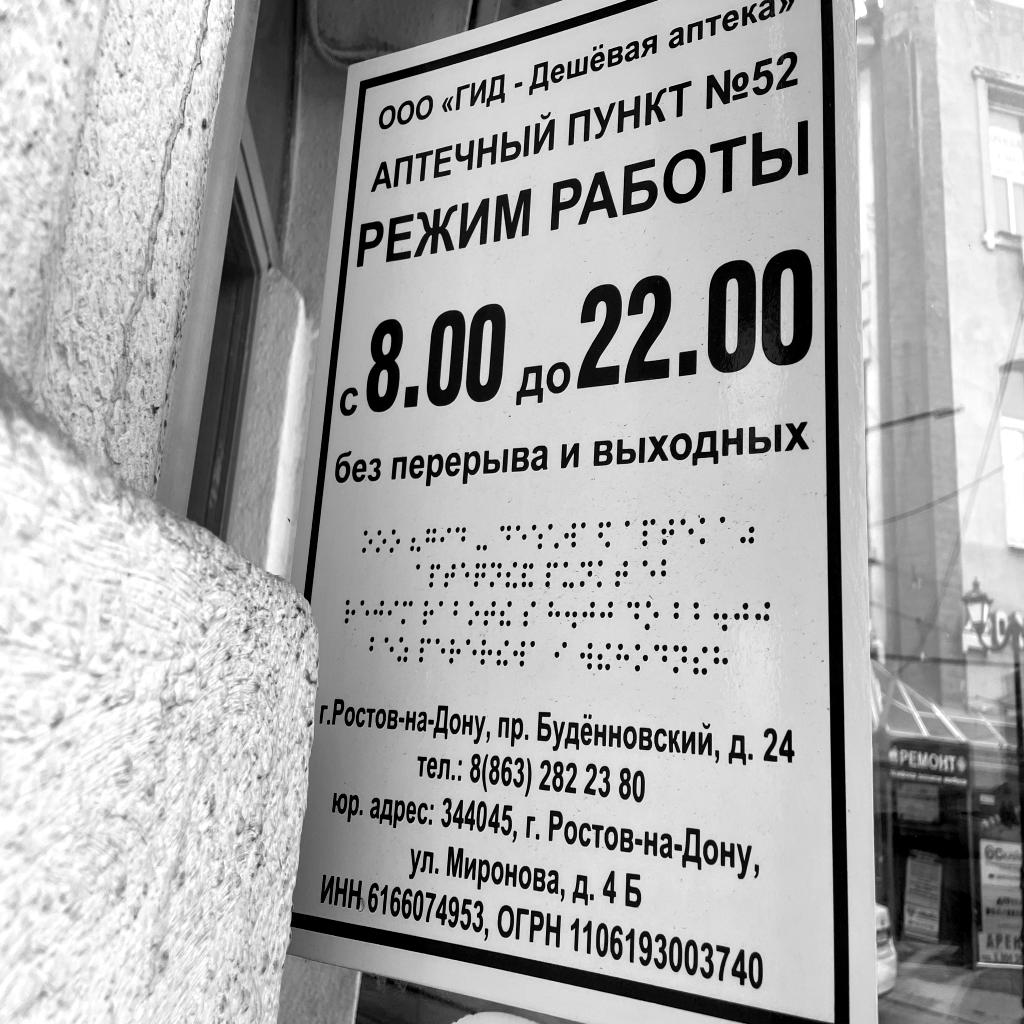_n: (673, 645, 688, 674), (580, 560, 593, 588), (490, 562, 502, 588)
_y: (562, 561, 574, 589)
a: (719, 516, 734, 545), (624, 520, 638, 549), (581, 521, 594, 549), (530, 640, 543, 668), (438, 600, 450, 625), (416, 563, 427, 588)
b: (453, 600, 465, 625), (368, 636, 380, 661)
ch: (474, 562, 487, 587)
d: (654, 644, 668, 675), (627, 601, 640, 631), (455, 527, 466, 553), (500, 525, 511, 551)
defis: (477, 526, 488, 552)
e: (680, 518, 694, 547), (516, 525, 527, 552), (435, 638, 446, 664), (466, 639, 477, 665), (384, 636, 394, 662), (360, 600, 370, 625), (461, 562, 470, 588)
g: (426, 527, 436, 553)
gh: (374, 600, 385, 625)
i: (440, 527, 452, 554), (555, 642, 567, 669), (387, 600, 399, 624)
iKratkoe: (521, 562, 534, 588)
ii: (693, 646, 708, 675), (597, 642, 611, 671), (499, 600, 512, 627), (496, 640, 509, 667), (506, 561, 518, 589)
k: (699, 517, 714, 545), (597, 559, 611, 588)
kavichki1: (410, 528, 421, 552)
kavichki2: (740, 514, 755, 544)
m: (401, 600, 413, 625)
o: (644, 600, 659, 631), (634, 643, 649, 672), (468, 600, 480, 627), (361, 530, 373, 554), (390, 528, 401, 553), (376, 530, 386, 554)
p: (642, 518, 656, 548), (545, 561, 558, 588), (419, 638, 431, 664), (429, 563, 441, 588)
r: (480, 639, 493, 666), (422, 600, 434, 626), (449, 638, 461, 664), (344, 600, 356, 624)
s: (523, 600, 536, 627)
sh: (531, 524, 543, 550)
t: (661, 518, 675, 546), (615, 560, 628, 588), (483, 600, 496, 626), (444, 563, 456, 589)
tochka: (713, 601, 728, 632), (565, 601, 577, 630)
v: (580, 642, 593, 670), (513, 640, 525, 668), (564, 522, 576, 549)
x: (714, 645, 729, 679), (616, 643, 630, 673)
ya: (598, 521, 611, 548)
yo: (548, 523, 559, 550)
z: (397, 636, 409, 663)
